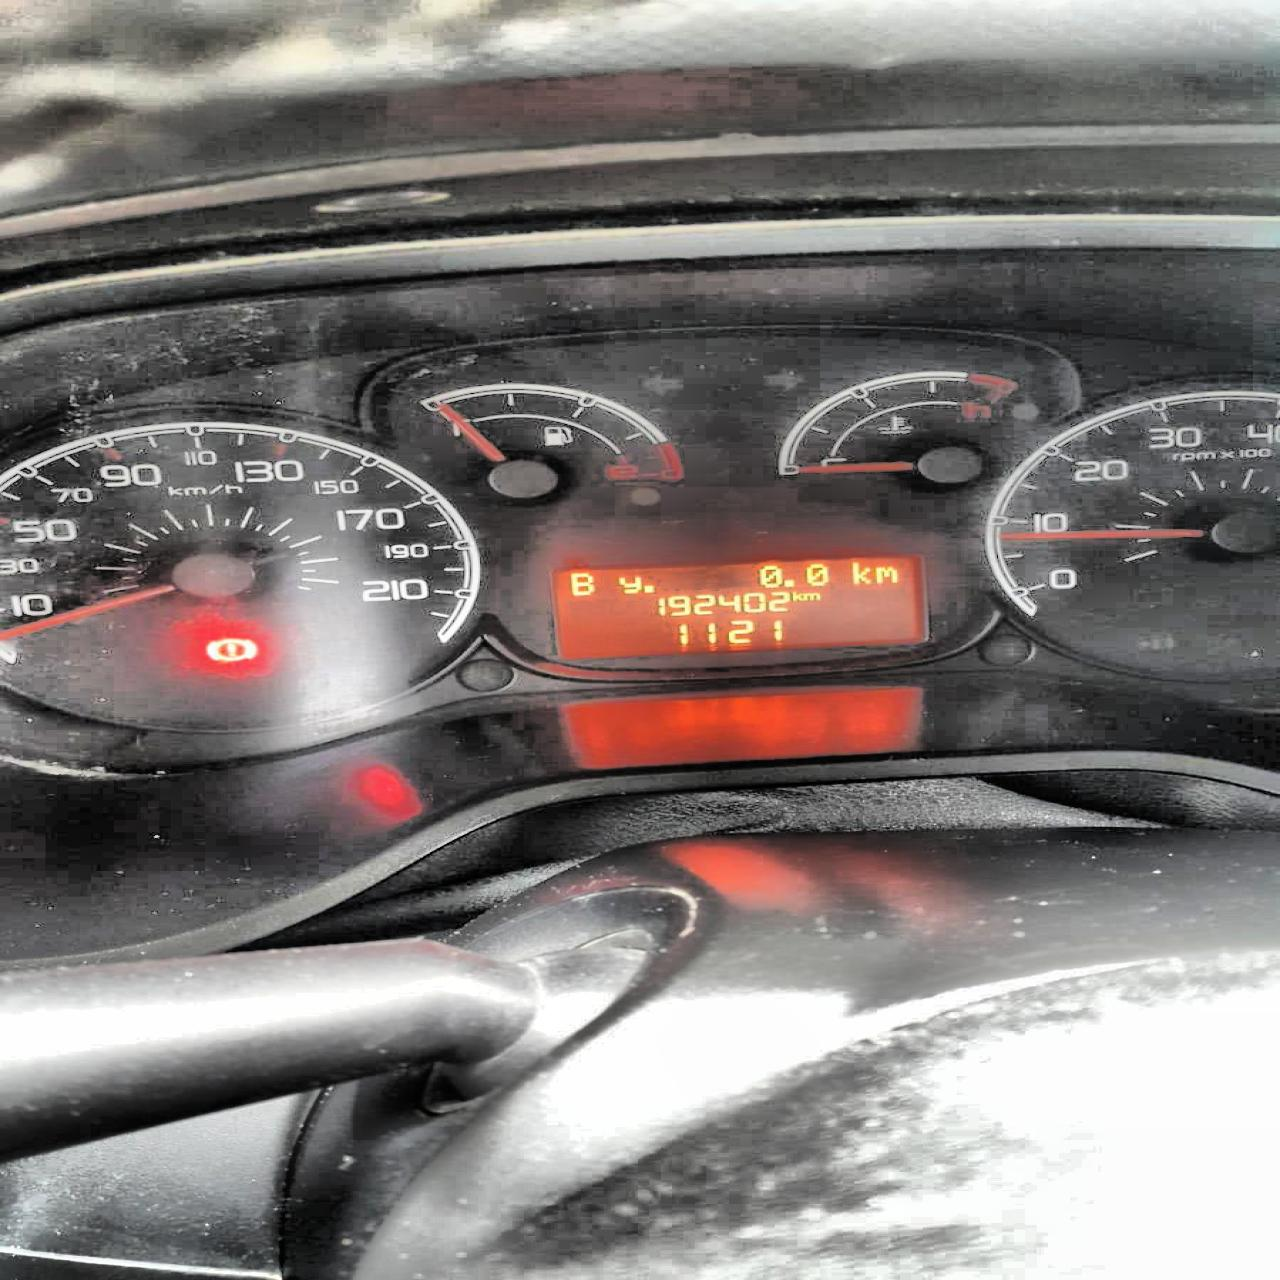-: (640, 581, 654, 597), (782, 579, 794, 590)
0: (753, 561, 779, 588), (801, 561, 829, 586), (742, 591, 763, 612)
1: (765, 617, 788, 641), (670, 620, 689, 647), (700, 619, 717, 646), (649, 595, 663, 617)
2: (724, 618, 755, 645), (690, 593, 717, 615), (764, 591, 788, 612)
4: (719, 593, 742, 613)
9: (668, 593, 689, 617)
X: (565, 568, 595, 597), (847, 560, 873, 586), (615, 572, 641, 594), (874, 565, 900, 585), (799, 592, 821, 602), (789, 590, 801, 602)
odometer: (539, 549, 935, 661)
